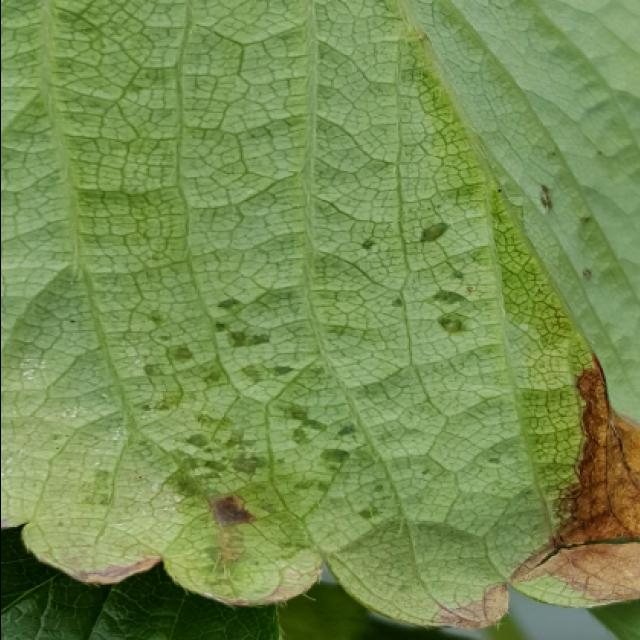Angular Leafspot: (37, 127, 640, 631)
